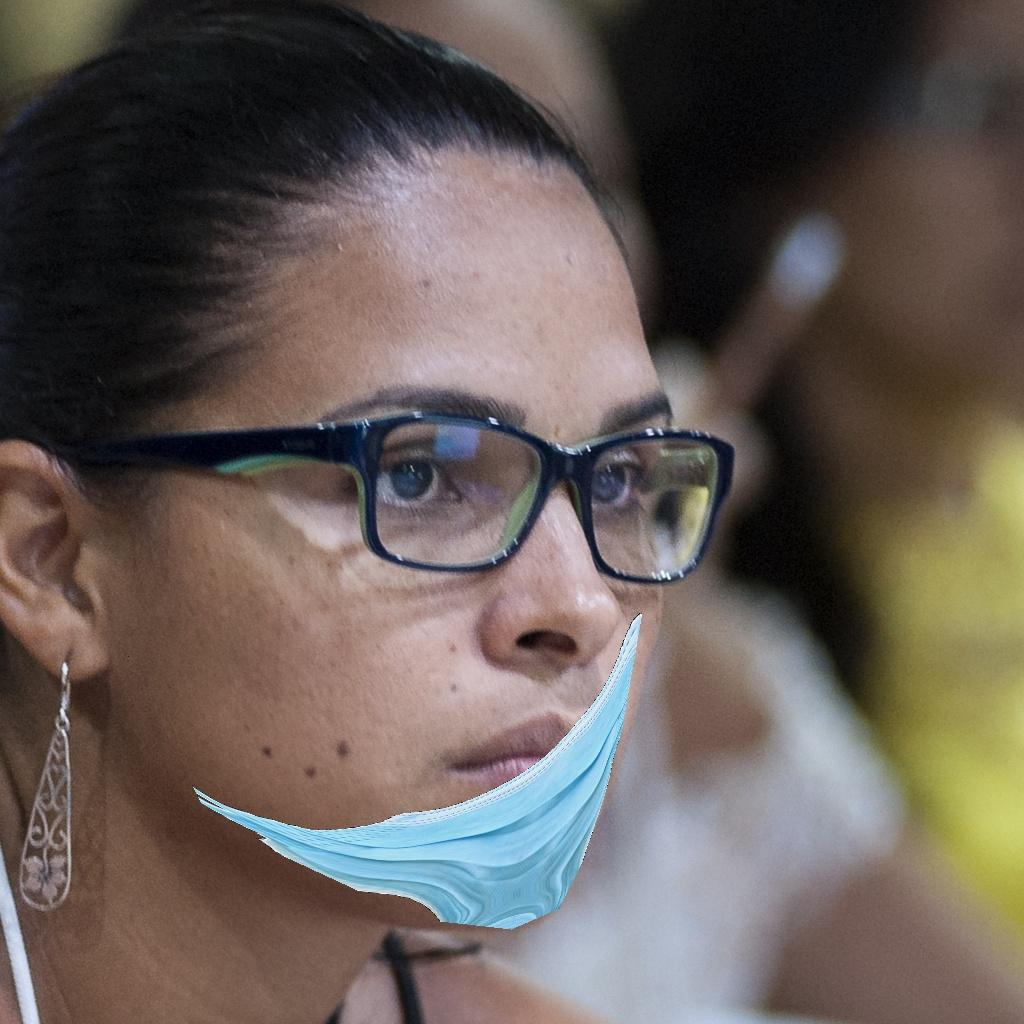Máscara Incorreta: (168, 275, 705, 930)
